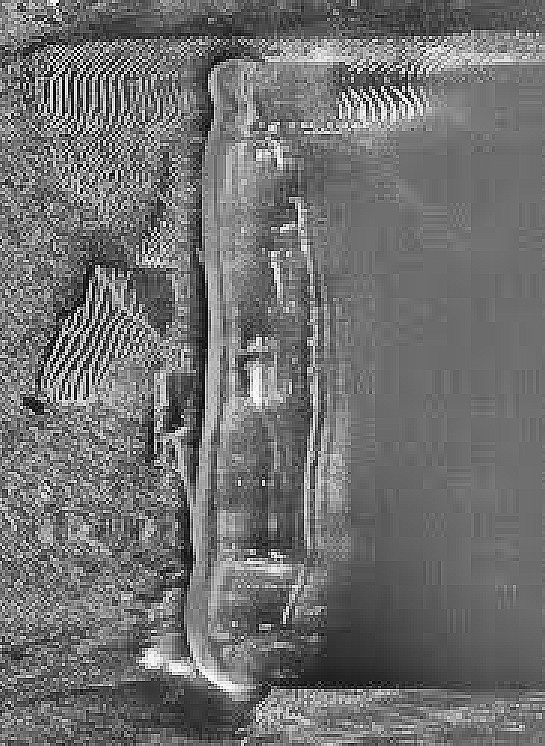ship: (177, 54, 327, 689)
